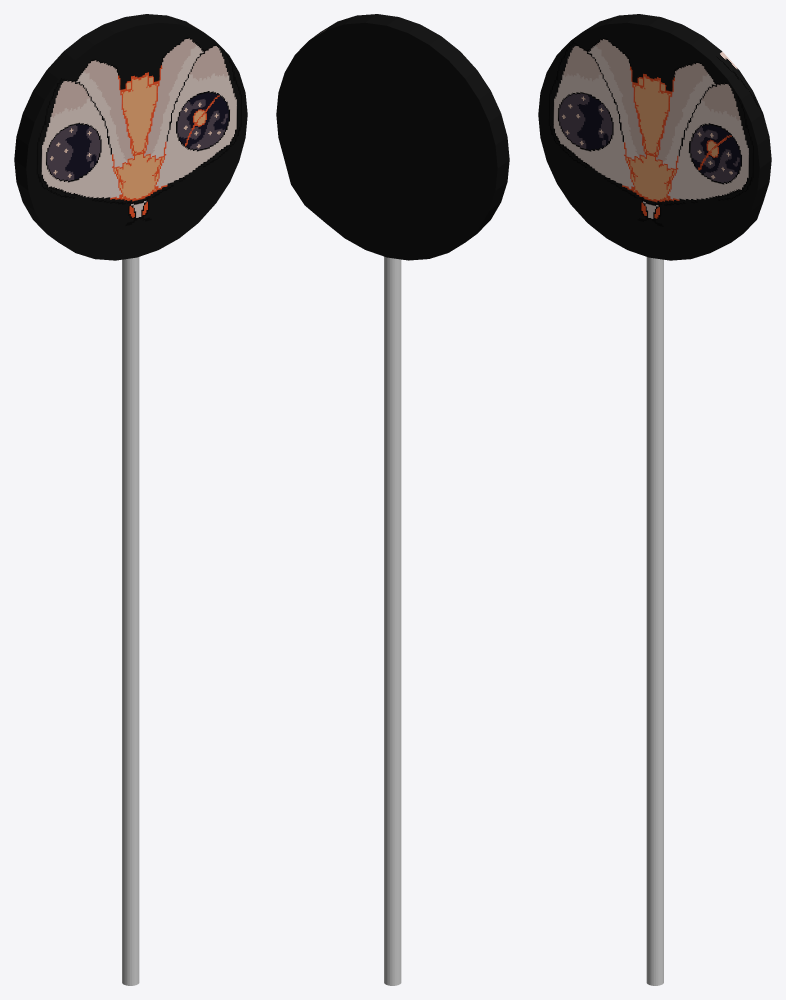
Rendered from KaijuTarget5.fbx.
3 renders of one model, left to right at view 1: azimuth 30°, elevation 25°; view 2: azimuth 150°, elevation 25°; view 3: azimuth 330°, elevation 25°, orthographic.
Visible parts, largest first — view 1: Cylinder.016, Cylinder.015; view 2: Cylinder.016, Cylinder.015; view 3: Cylinder.016, Cylinder.015.
Part boxes in pixels (x1=…): Cylinder.016: x1=14, y1=14, x2=247, y2=260; Cylinder.015: x1=122, y1=257, x2=139, y2=985; Cylinder.016: x1=276, y1=14, x2=509, y2=260; Cylinder.015: x1=384, y1=256, x2=401, y2=985; Cylinder.016: x1=538, y1=14, x2=771, y2=260; Cylinder.015: x1=646, y1=257, x2=663, y2=985.
Size of the model in its own units: 31.4 by 130 by 3.33.
